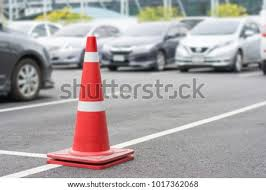car: (100, 20, 192, 71), (175, 21, 261, 73), (36, 25, 125, 69), (1, 28, 54, 98)
cone: (48, 36, 134, 169)
